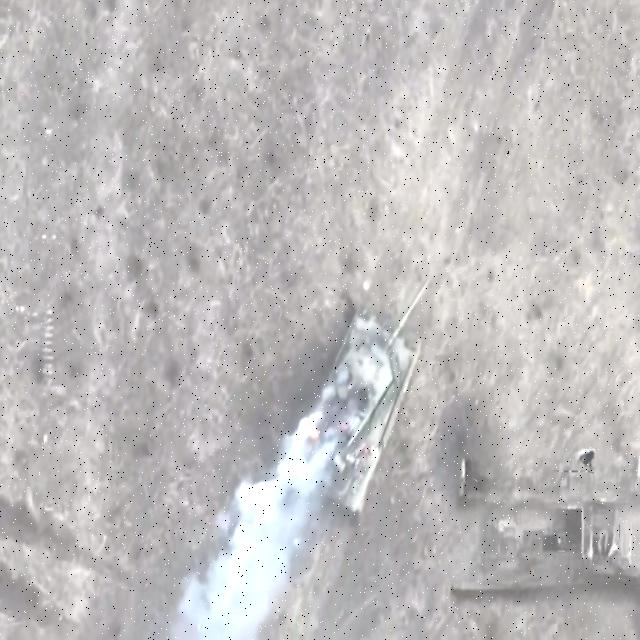MBT: (302, 285, 434, 518)
